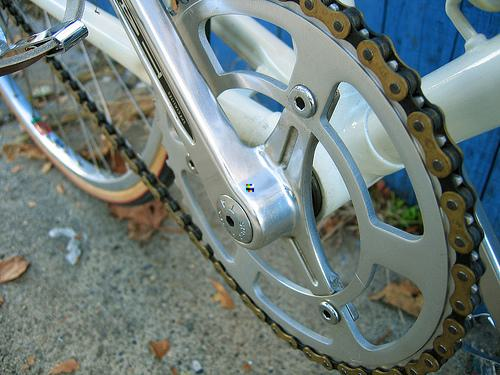car: (1, 1, 500, 375)
